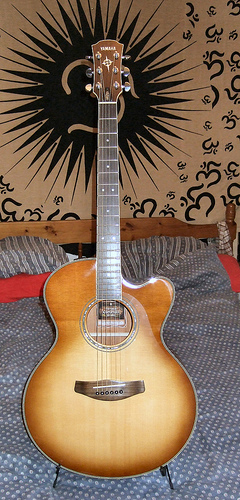guitar: (19, 39, 198, 482)
